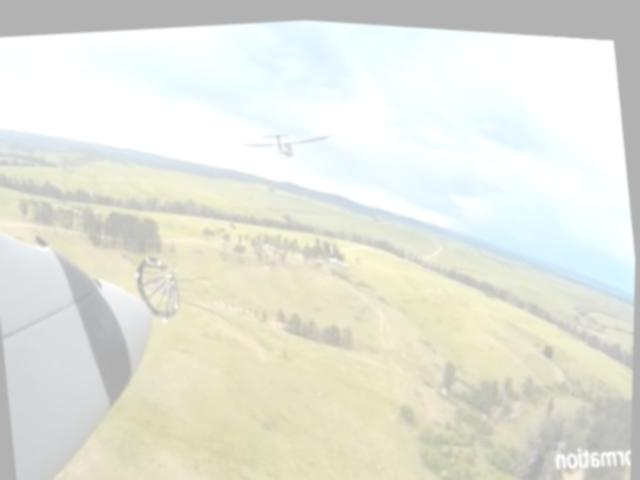uav: (240, 114, 338, 166)
